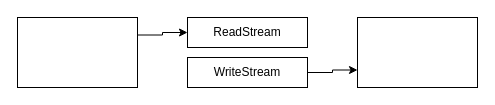
Image size: 495x105. Some labels were removed from this diagram. Here are the shapes that lost their labels. From the top down, the box of each, then its label:
(16, 16, 138, 88): Source数据源
(356, 16, 478, 88): Sink数据槽
